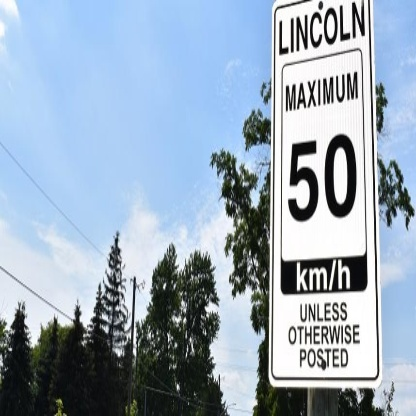limit1: (279, 46, 365, 293)
